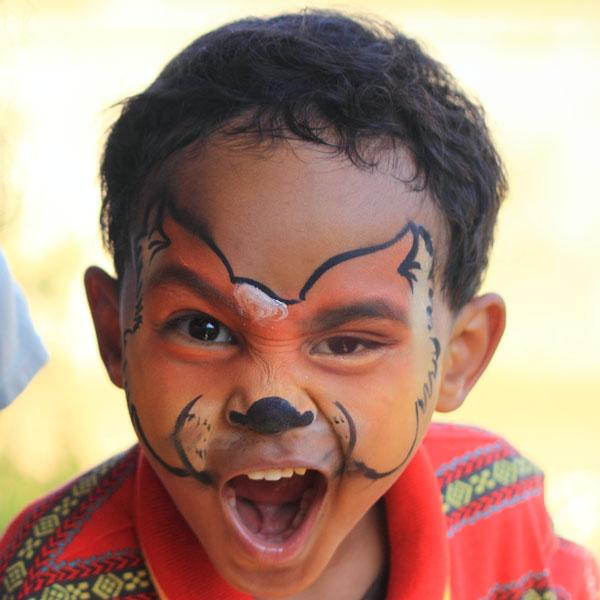Eyes: (152, 291, 246, 361), (298, 316, 391, 378)
